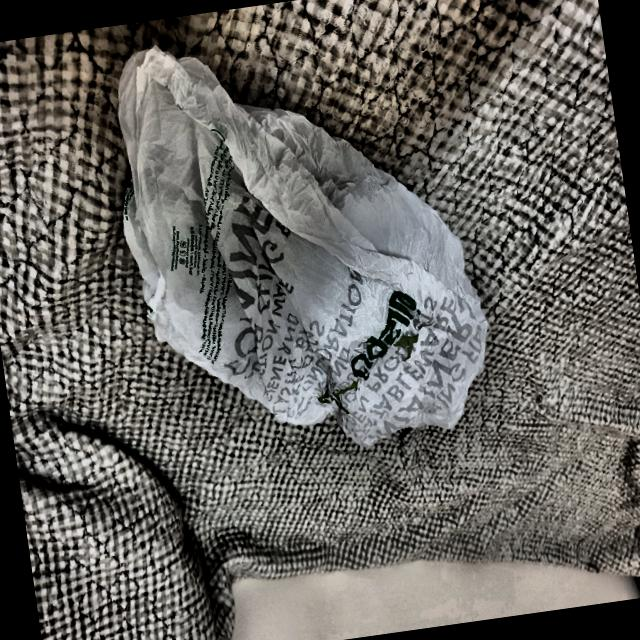plastic bag: (87, 0, 506, 482)
